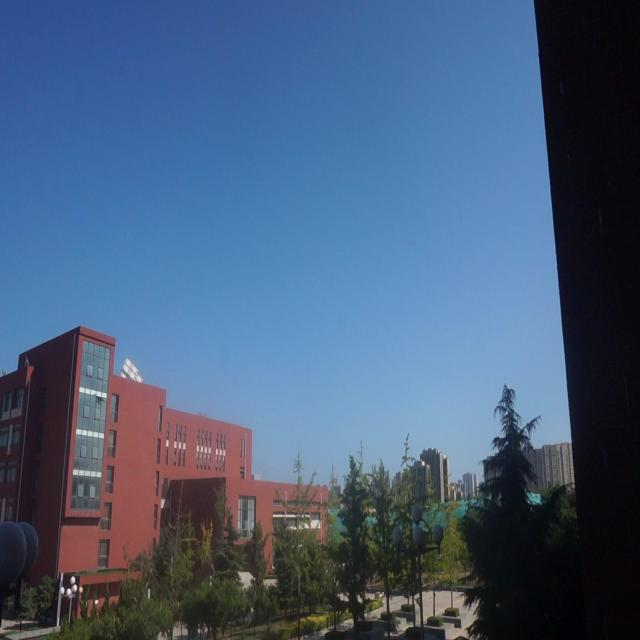drone: (92, 390, 108, 406)
